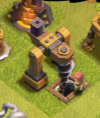dark_elixir_colector: (19, 15, 86, 108)
